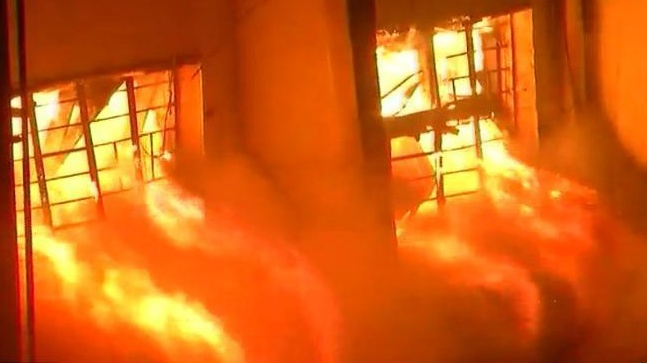fire: (15, 102, 232, 355), (394, 70, 583, 267)
